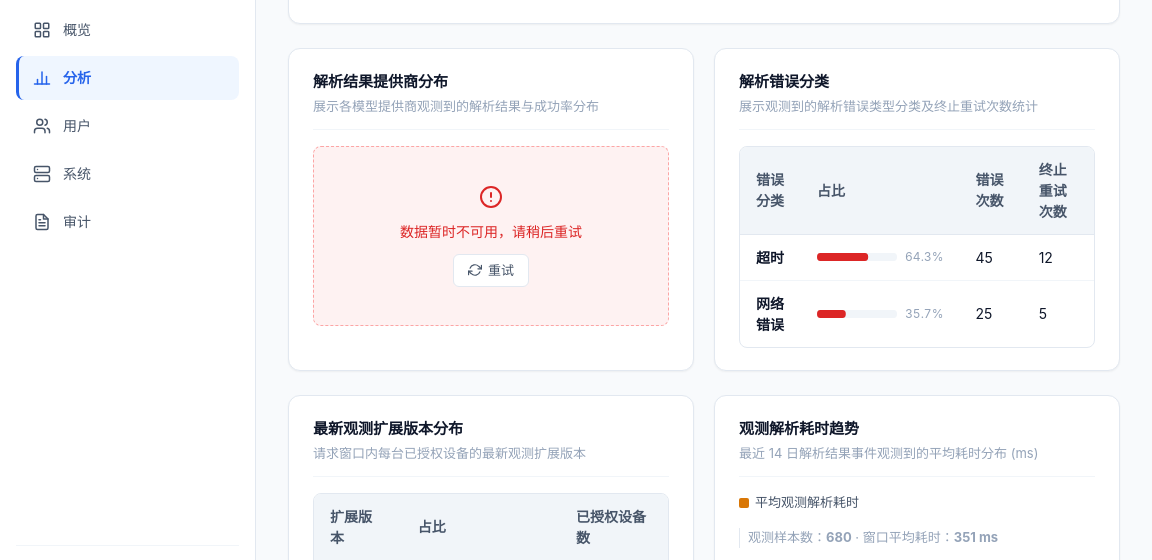
Scenario: Admin Console UI & Analytics UI Tests › Phase 11C2-R1 Regression & Repair Tests › C2-R1-RETRY-01: section retry only refetches the failed endpoint
(page scrolled)
Expected: the text "数据暂时不可用，请稍后重试" is shown, 400,221 -> 582,242
# Click retry in the providers section
Click the button "重试" at (491, 270), box 453,254 -> 529,287
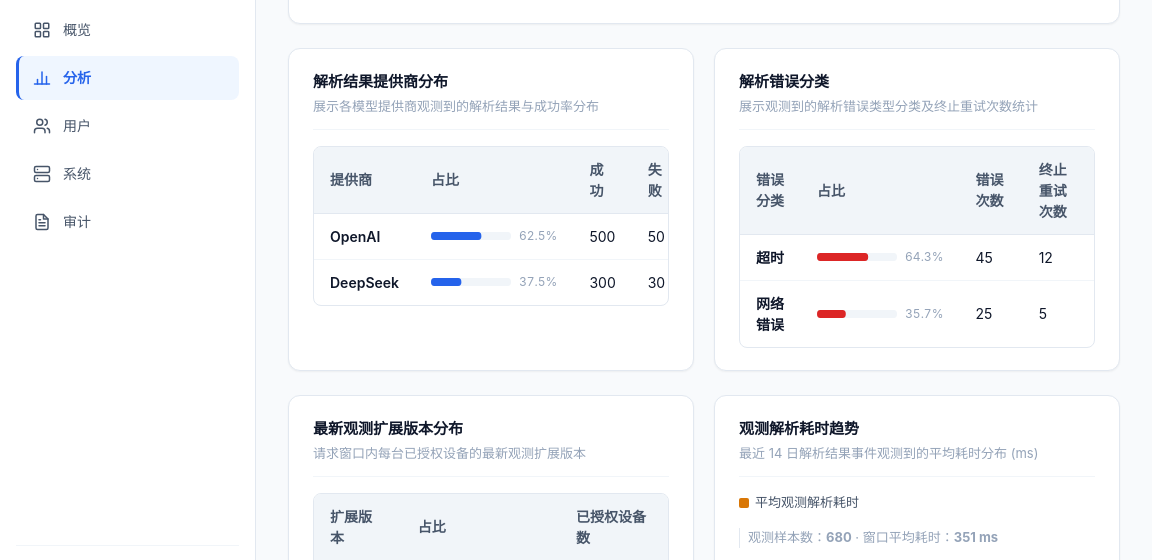
Expected: the text "OpenAI" is shown, 330,228 -> 380,245
